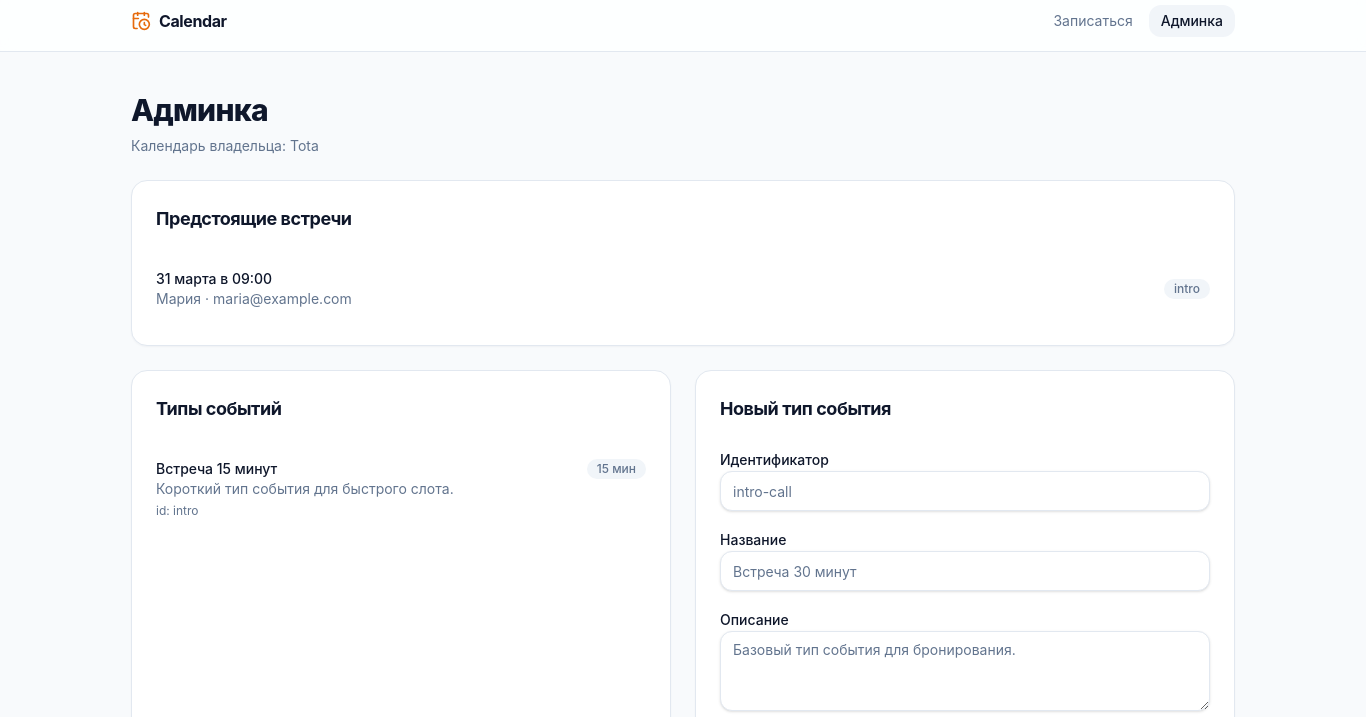
Test: AdminPage › создаёт тип события с заданным владельцем идентификатором
Step 1. Type "deep-dive" into the field labelled "Идентификатор" → (965, 491), box x1=720 y1=471 x2=1210 y2=511
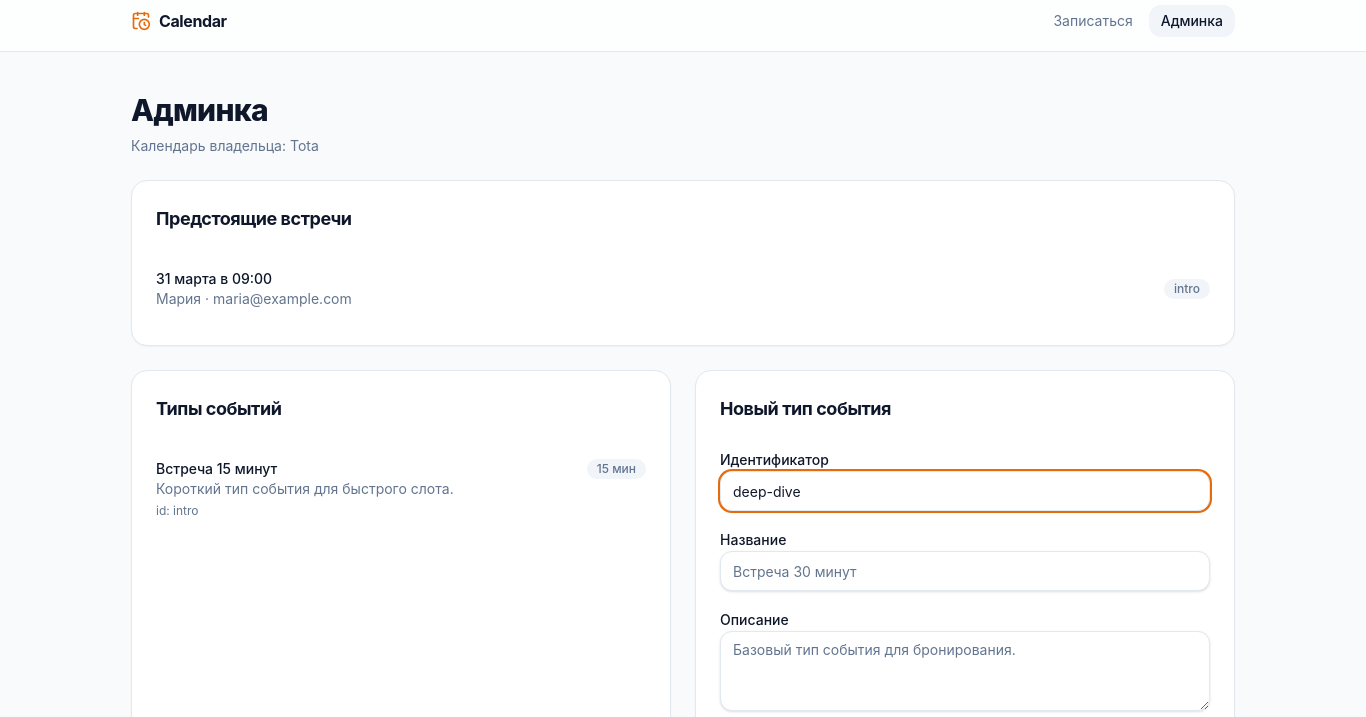
Step 2. Type "Встреча 60 минут" into the field labelled "Название" → (965, 571), box x1=720 y1=551 x2=1210 y2=591
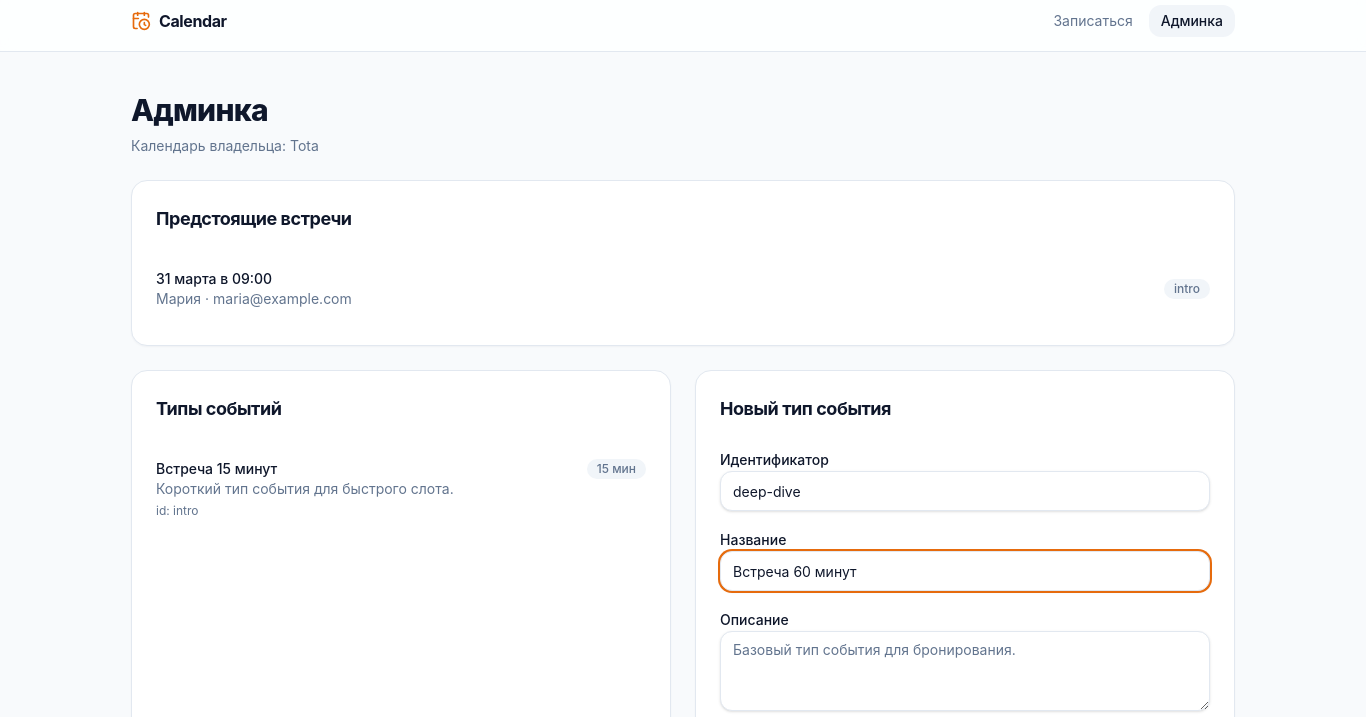
Step 3. Type "Длинный разговор." into the text box labelled "Описание" → (965, 671), box x1=720 y1=631 x2=1210 y2=711
(page scrolled)
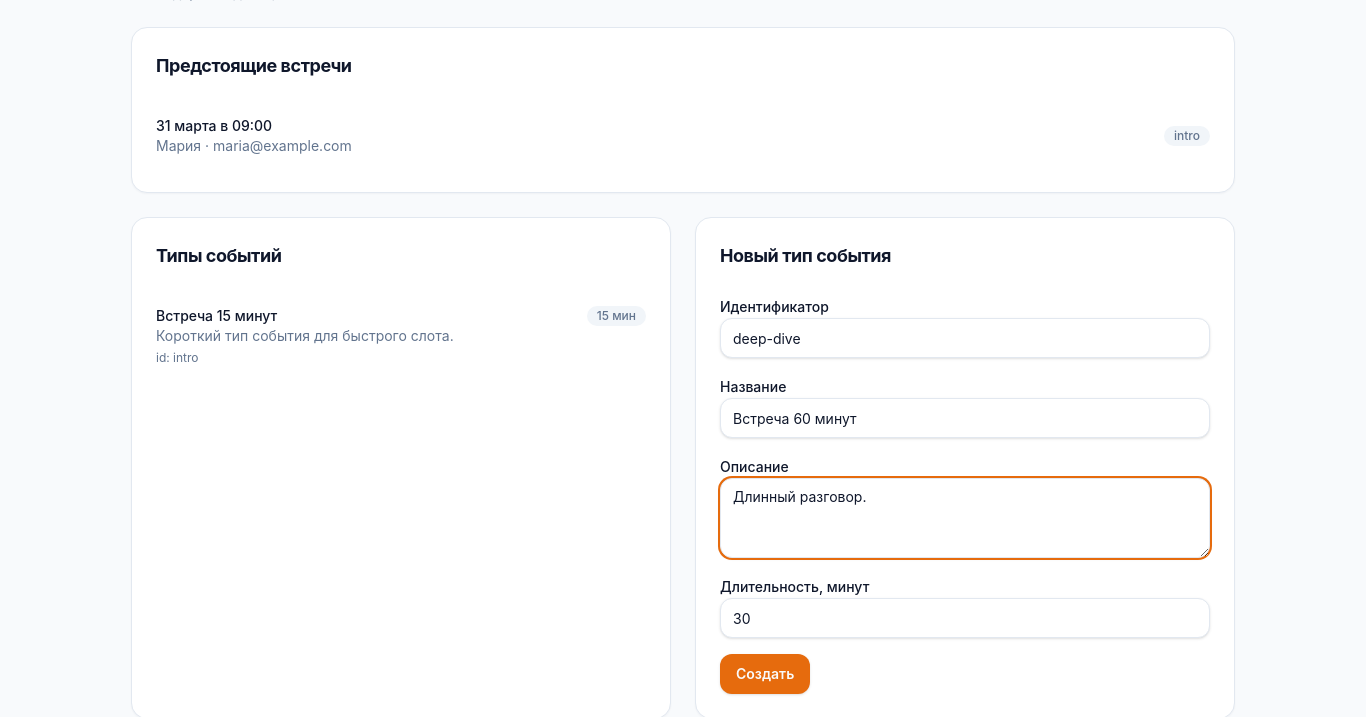
Step 4. Replace the text in the number field labelled "Длительность, минут" with "60" → (965, 618), box x1=720 y1=598 x2=1210 y2=638
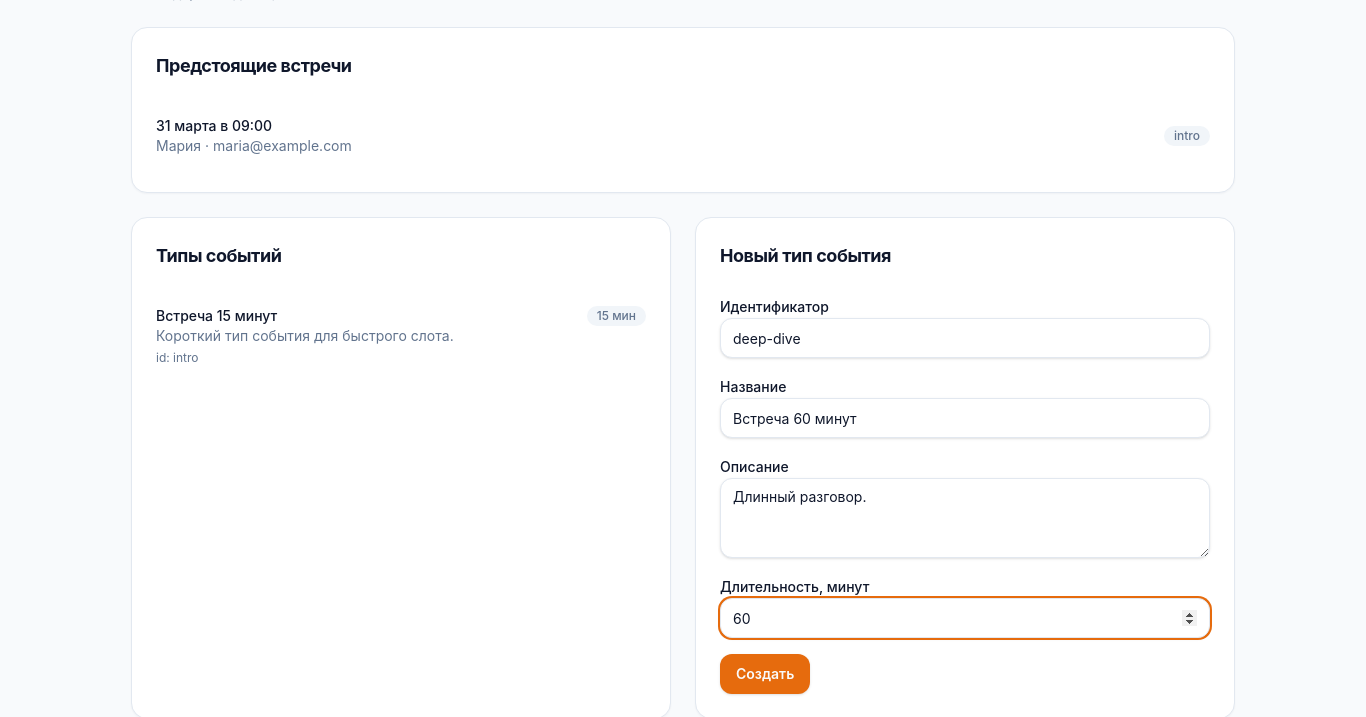
Step 5. Click the button "Создать" → (765, 674), box x1=720 y1=654 x2=810 y2=694
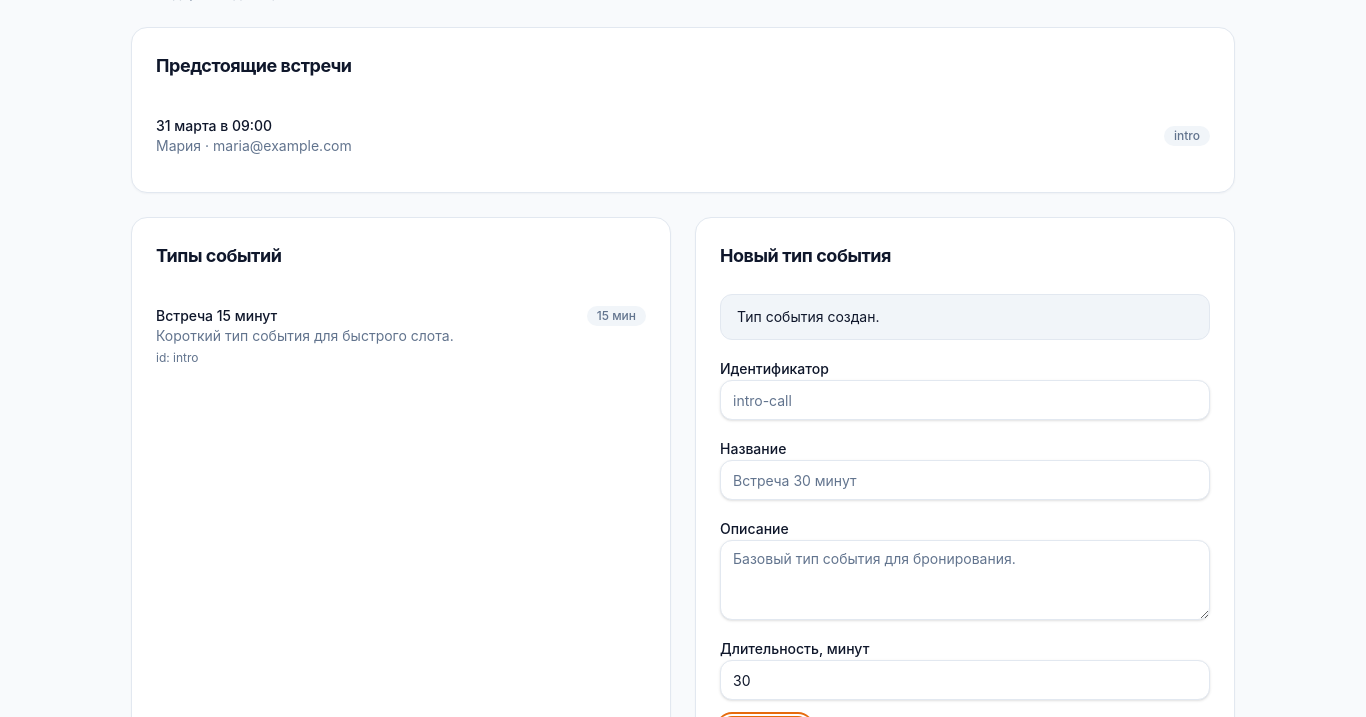
Expected: the text "Тип события создан." is shown, x1=720 y1=294 x2=1210 y2=340
